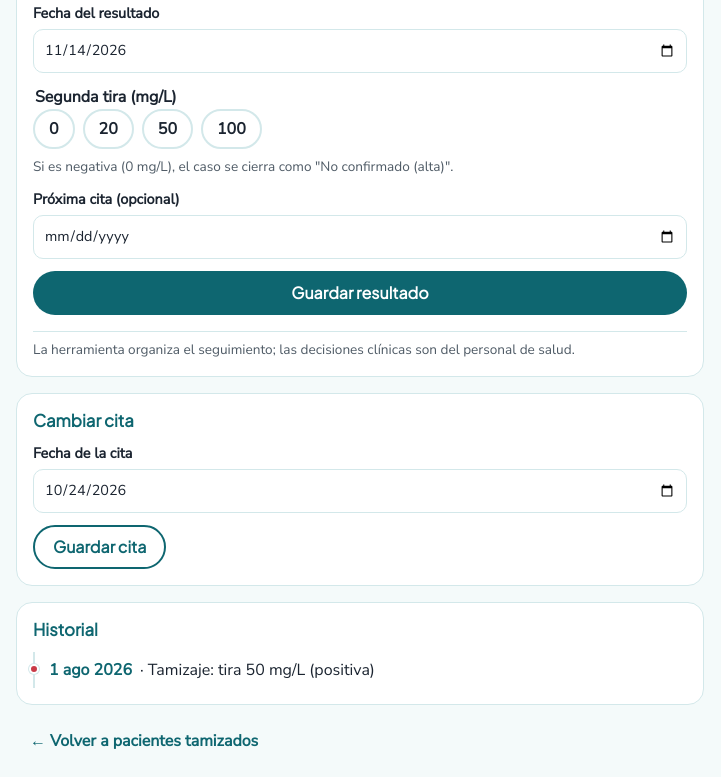
Scenario: Ficha de seguimiento (HU02) › agenda una cita
The image size is (721, 777).
(page scrolled)
Expected: the heading "Cambiar cita" is shown, [33,410,134,431]
Type "2026-11-28" into the date field labelled "Fecha de la cita" at (360, 491), box [33,469,687,513]
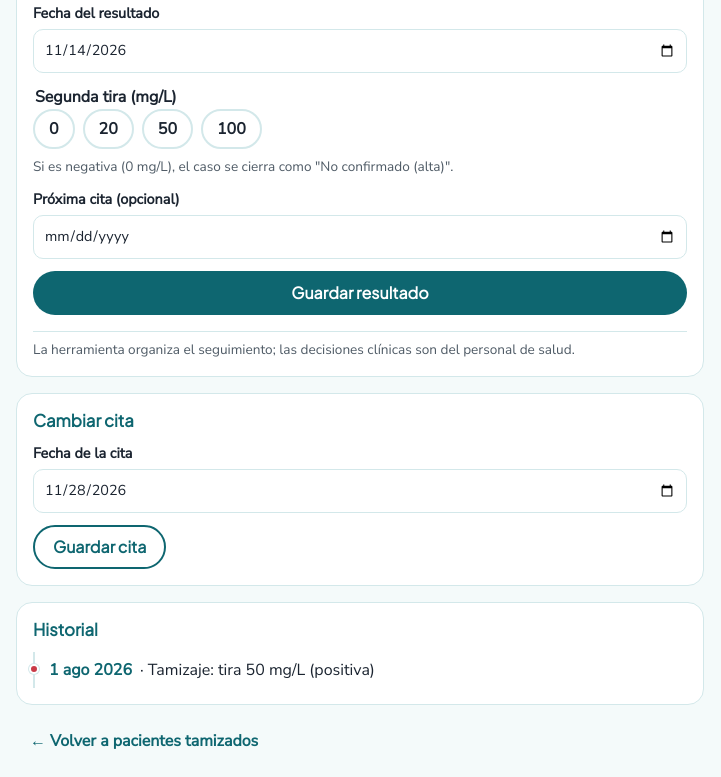
Click the button "Guardar cita" at (100, 547), box [33,525,166,569]
(page scrolled)
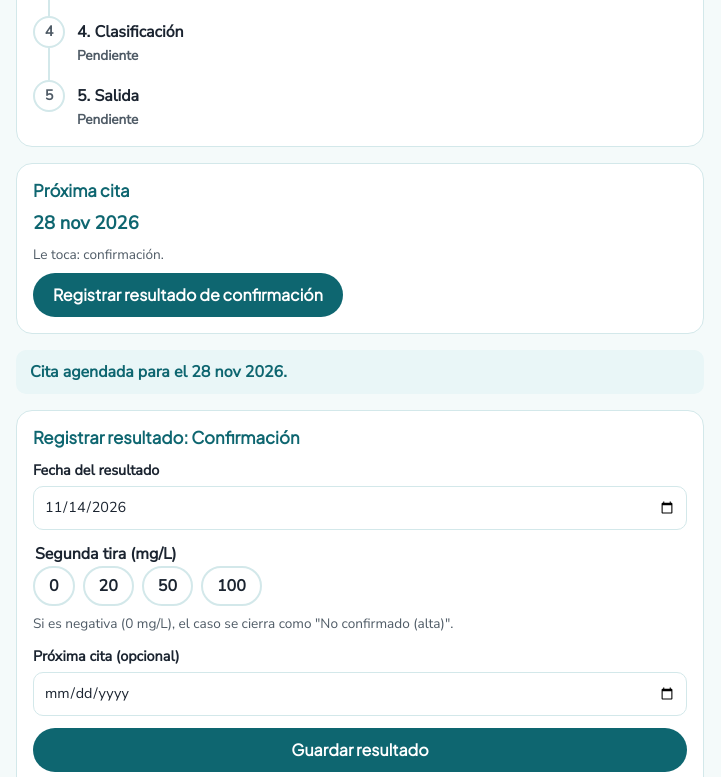
Result: the message reads "Cita agendada para el 28 nov 2026." at [30,361,287,383]
